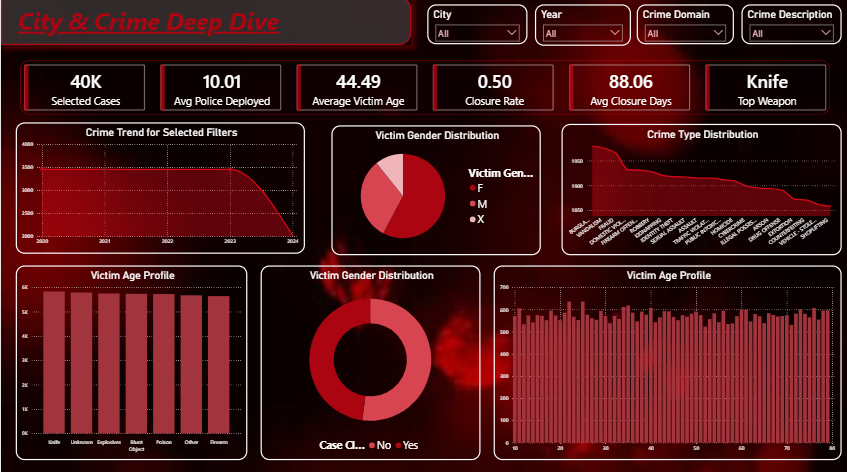

Layout of this report page (visuals, bound fields, positions):
{"tool":"powerbi","page":{"name":"Deep Dive","canvas":[1920,1080],"ordinal":5},"visuals":[{"type":"shape","box":[0,0,927.2,108.6],"z":0},{"type":"textbox","box":[33.3,13.3,893.3,96.7],"z":1},{"type":"slicer","title":"Year","fields":{"Values":["crime_clean_data.Year"]},"box":[1206.7,16.7,216.6,93.3],"z":2},{"type":"slicer","title":"City","fields":{"Values":["crime_clean_data.City"]},"box":[963.3,16.7,226.7,90],"z":3},{"type":"slicer","title":"Crime Domain","fields":{"Values":["crime_clean_data.Crime Domain"]},"box":[1436.7,16.7,220,90],"z":4},{"type":"slicer","title":"Crime Description","fields":{"Values":["crime_clean_data.Year"]},"box":[1673.3,16.7,226.7,90],"z":5},{"type":"cardVisual","title":"Crime Description","fields":{"Data":["crime_clean_data.Selected Cases","crime_clean_data.Avg Police Deployed","crime_clean_data.Average Victim Age","crime_clean_data.Closure Rate","crime_clean_data.Avg Closure Days","crime_clean_data.Top Weapon"]},"box":[27.5,127.5,1865,155],"z":6},{"type":"stackedAreaChart","title":"Crime Trend for Selected Filters","fields":{"Category":["crime_clean_data.Year"],"Y":["crime_clean_data.Selected Cases"]},"box":[33.3,283.3,653.3,296.7],"z":7},{"type":"stackedAreaChart","title":"Crime Type Distribution","fields":{"Category":["crime_clean_data.Crime Description"],"Y":["crime_clean_data.Selected Cases"]},"box":[1266.7,286.7,633.3,296.7],"z":8},{"type":"lineStackedColumnComboChart","title":"Victim Age Profile","fields":{"Category":["crime_clean_data.Victim Age"],"Y":["crime_clean_data.Selected Cases"]},"box":[1113.3,606.7,786.7,440],"z":9},{"type":"pieChart","title":"Victim Gender Distribution","fields":{"Category":["crime_clean_data.Victim Gender"],"Y":["crime_clean_data.Selected Cases"]},"box":[746.7,290,473.3,293.3],"z":10},{"type":"columnChart","title":"Victim Age Profile","fields":{"Category":["crime_clean_data.Weapon Used"],"Y":["crime_clean_data.Selected Cases"]},"box":[33.3,606.7,523.3,440],"z":11},{"type":"donutChart","title":"Victim Gender Distribution","fields":{"Category":["crime_clean_data.Case Closed"],"Y":["crime_clean_data.Selected Cases"]},"box":[586.7,606.7,496.6,440],"z":12}]}

Visuals, with their boxes in screenshot pixels (x1, y1, x2, y2), scaled from the page's 1920x1080 canvas onto the 847x472 screenshot:
shape: x1=0 y1=0 x2=409 y2=47
textbox: x1=15 y1=6 x2=409 y2=48
"Year" slicer: x1=532 y1=7 x2=628 y2=48
"City" slicer: x1=425 y1=7 x2=525 y2=47
"Crime Domain" slicer: x1=634 y1=7 x2=731 y2=47
"Crime Description" slicer: x1=738 y1=7 x2=838 y2=47
"Crime Description" cardVisual: x1=12 y1=56 x2=835 y2=123
"Crime Trend for Selected Filters" stackedAreaChart: x1=15 y1=124 x2=303 y2=253
"Crime Type Distribution" stackedAreaChart: x1=559 y1=125 x2=838 y2=255
"Victim Age Profile" lineStackedColumnComboChart: x1=491 y1=265 x2=838 y2=457
"Victim Gender Distribution" pieChart: x1=329 y1=127 x2=538 y2=255
"Victim Age Profile" columnChart: x1=15 y1=265 x2=246 y2=457
"Victim Gender Distribution" donutChart: x1=259 y1=265 x2=478 y2=457
